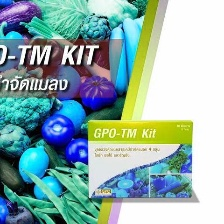book: (83, 116, 194, 201)
